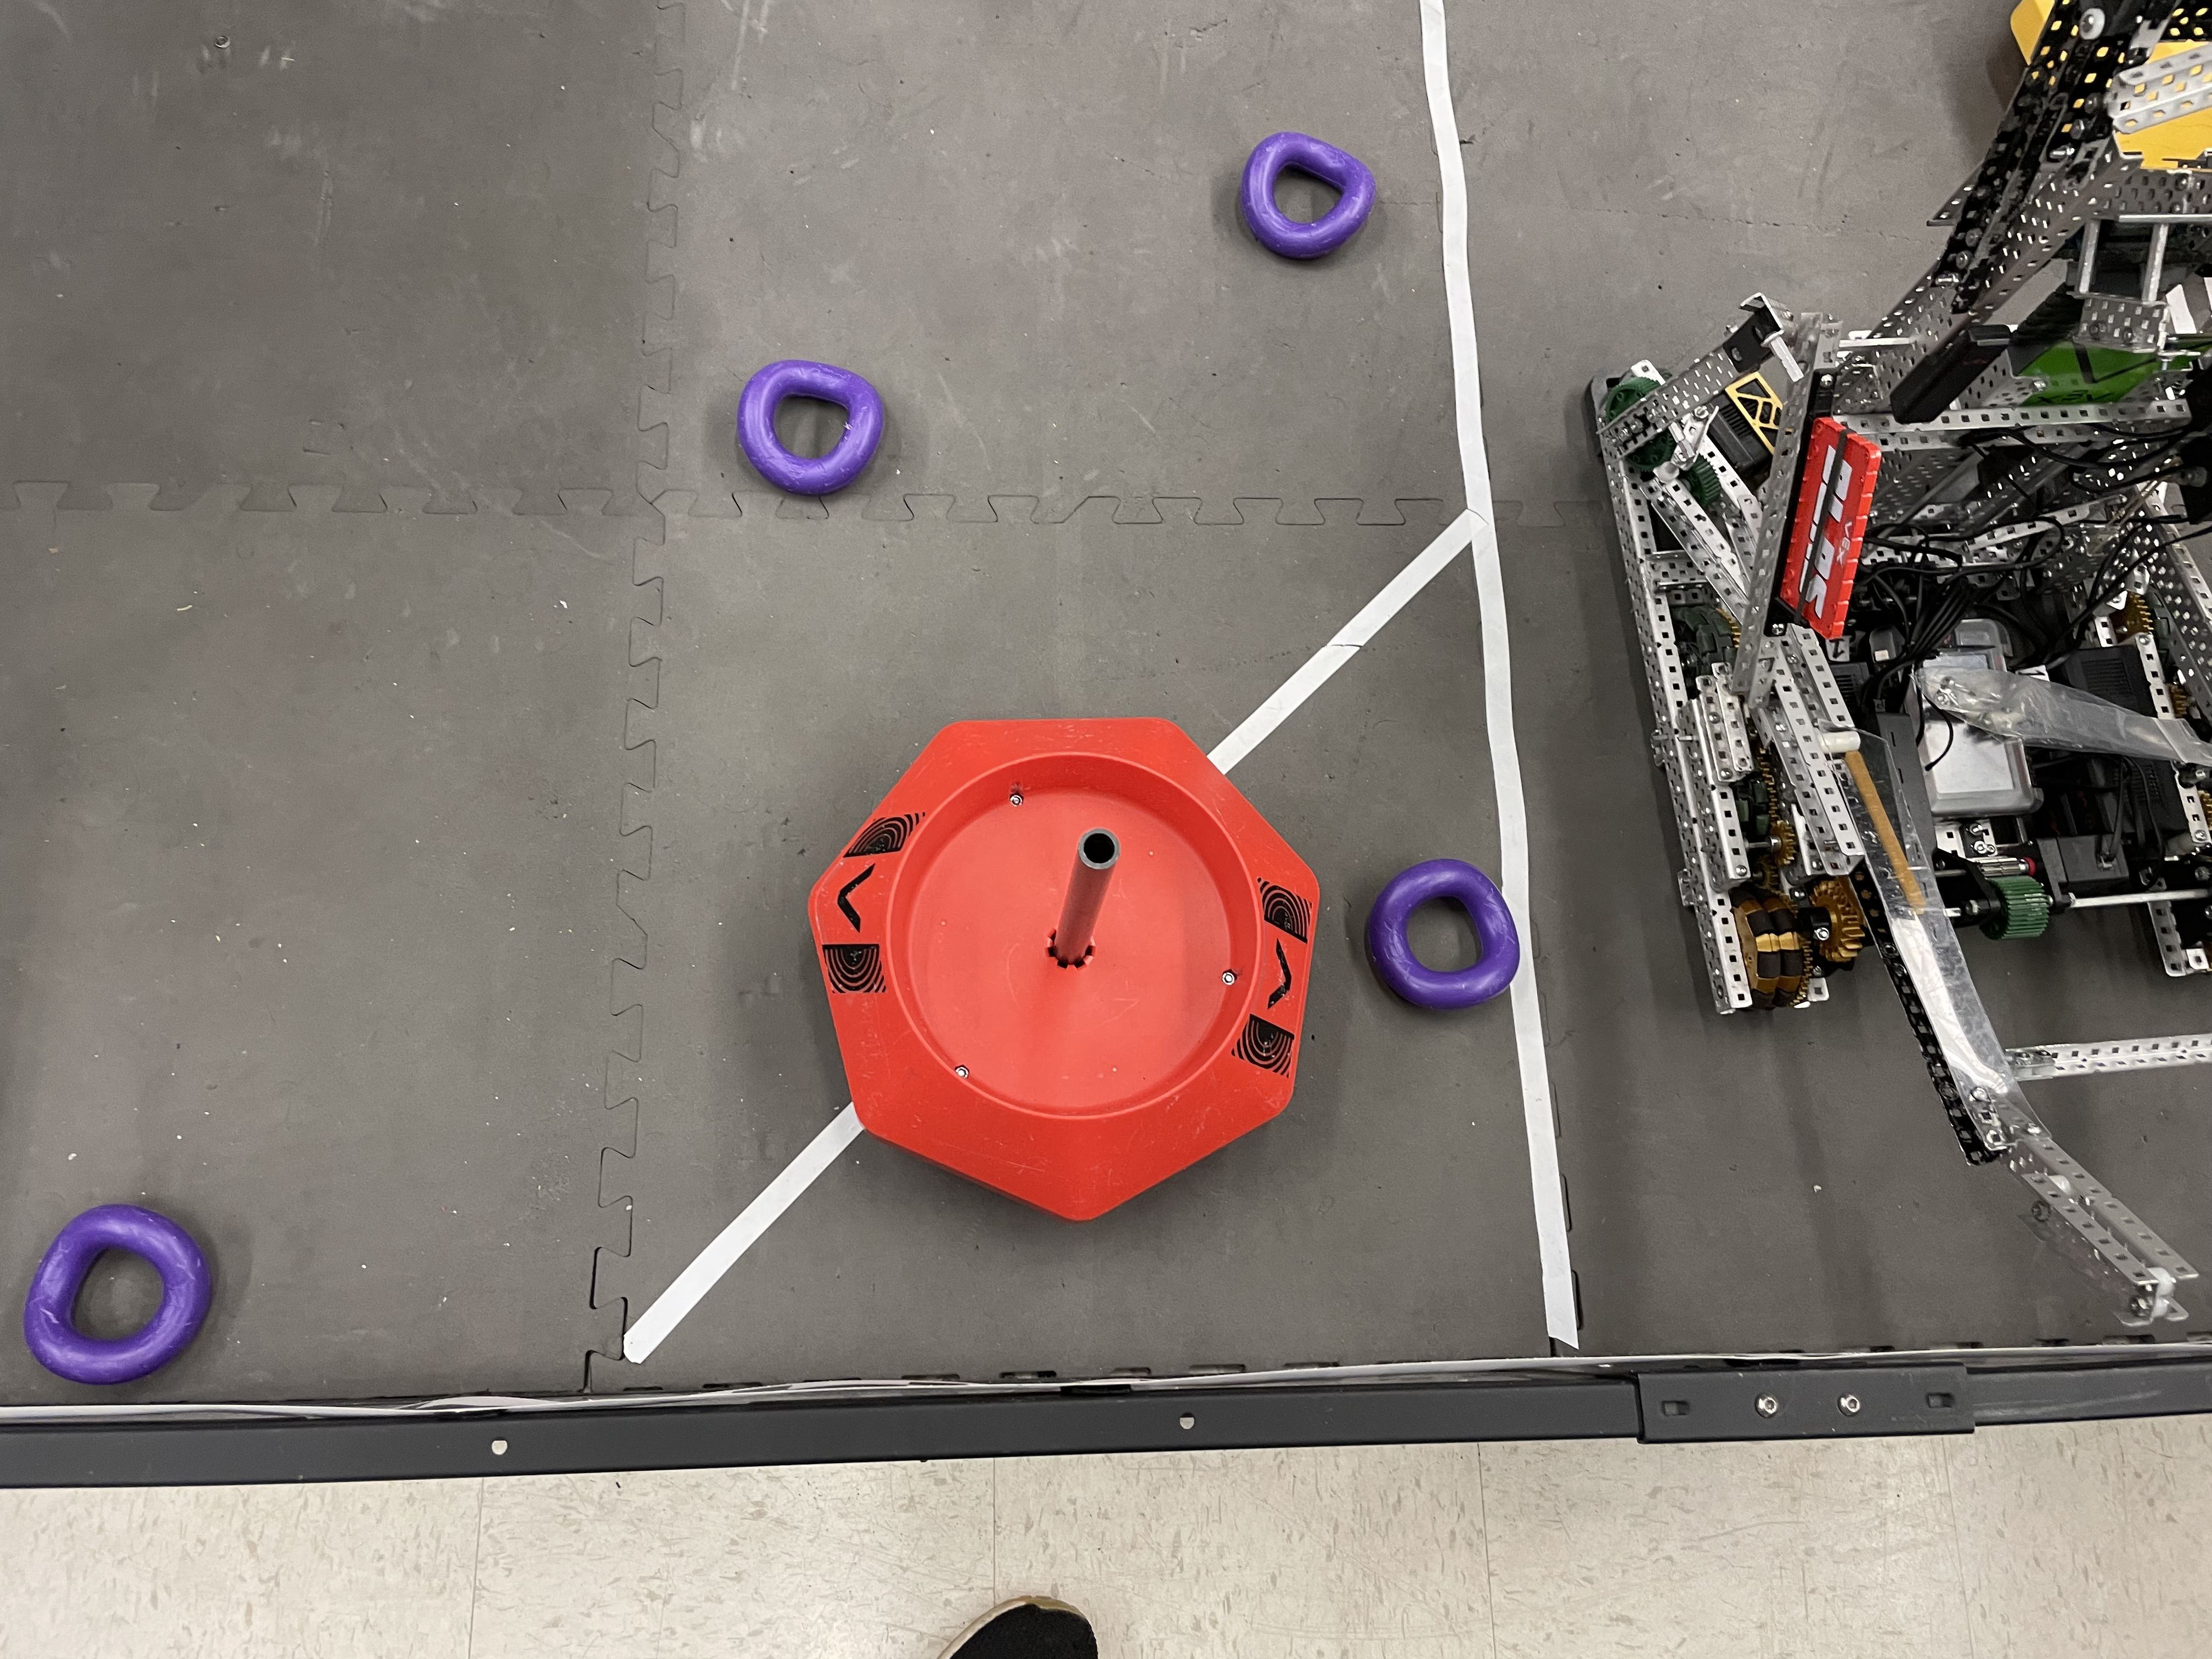ring: (21, 1204, 216, 1384), (1364, 856, 1522, 1012), (730, 361, 883, 498), (1235, 129, 1378, 261)
